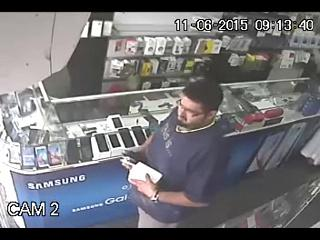shoplifting: (120, 76, 232, 227)
